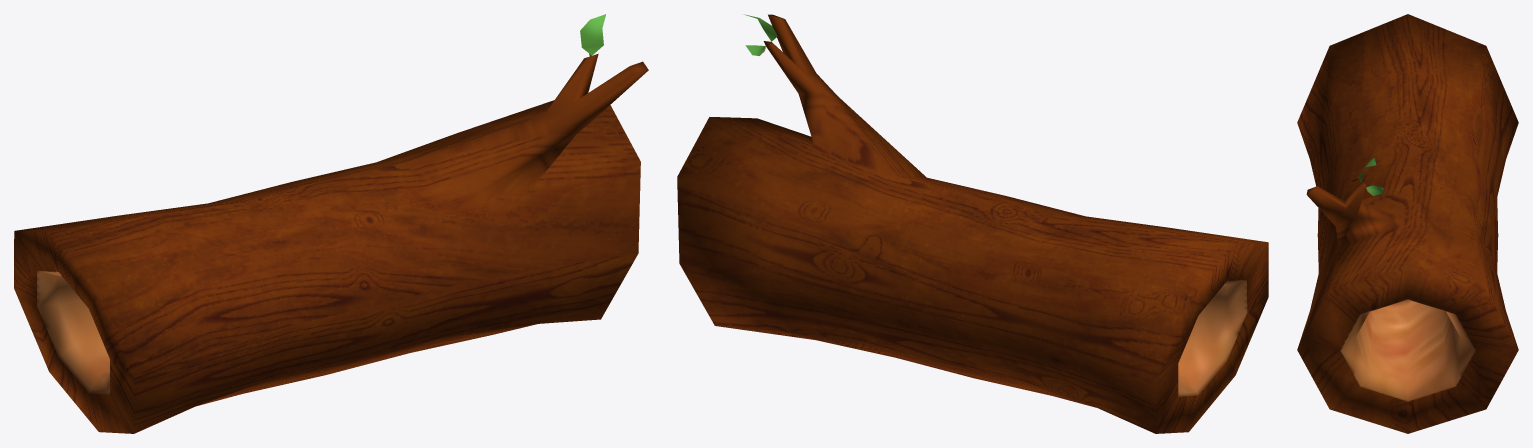
The model's file is Tree_Log.fbx.
3 renders of one model, left to right at view 1: azimuth 30°, elevation 25°; view 2: azimuth 150°, elevation 25°; view 3: azimuth 270°, elevation 25°, orthographic. The views are drawn at different scales.
Visible parts, largest first — view 1: Tree_Log; view 2: Tree_Log; view 3: Tree_Log.
Boxes of the visible parts, <box> form: Tree_Log: <box>14,14,648,433</box>; Tree_Log: <box>677,14,1268,433</box>; Tree_Log: <box>1297,14,1518,433</box>.
Size of the model in its own units: 1.36 by 0.7258 by 0.5079.
